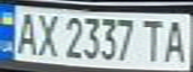2: (60, 12, 84, 60)
3: (81, 14, 103, 61), (100, 15, 121, 62)
7: (115, 16, 139, 62)
A: (160, 16, 193, 64), (12, 8, 39, 56)
T: (139, 16, 169, 63)
X: (33, 10, 60, 57)
